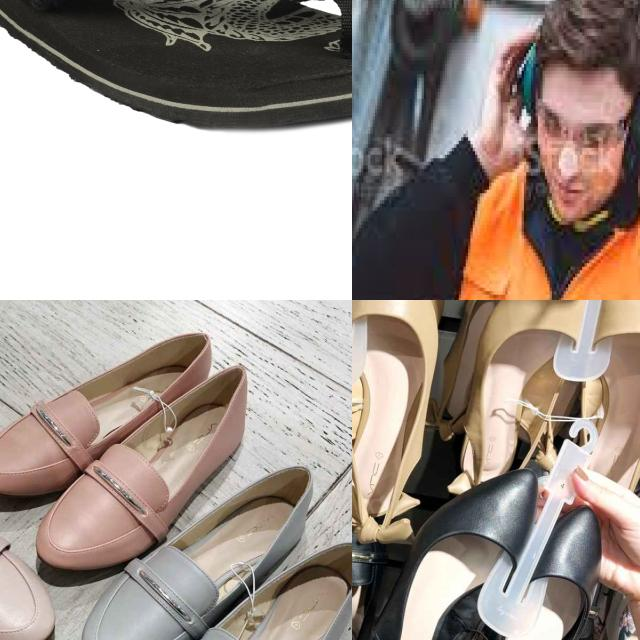Ear-protection: (517, 43, 538, 109), (628, 70, 640, 165)
Sandals: (0, 321, 267, 573), (68, 456, 352, 640), (352, 464, 617, 640), (0, 0, 352, 131), (352, 300, 453, 559)
glasses: (526, 99, 634, 151)
person: (352, 0, 640, 300)
